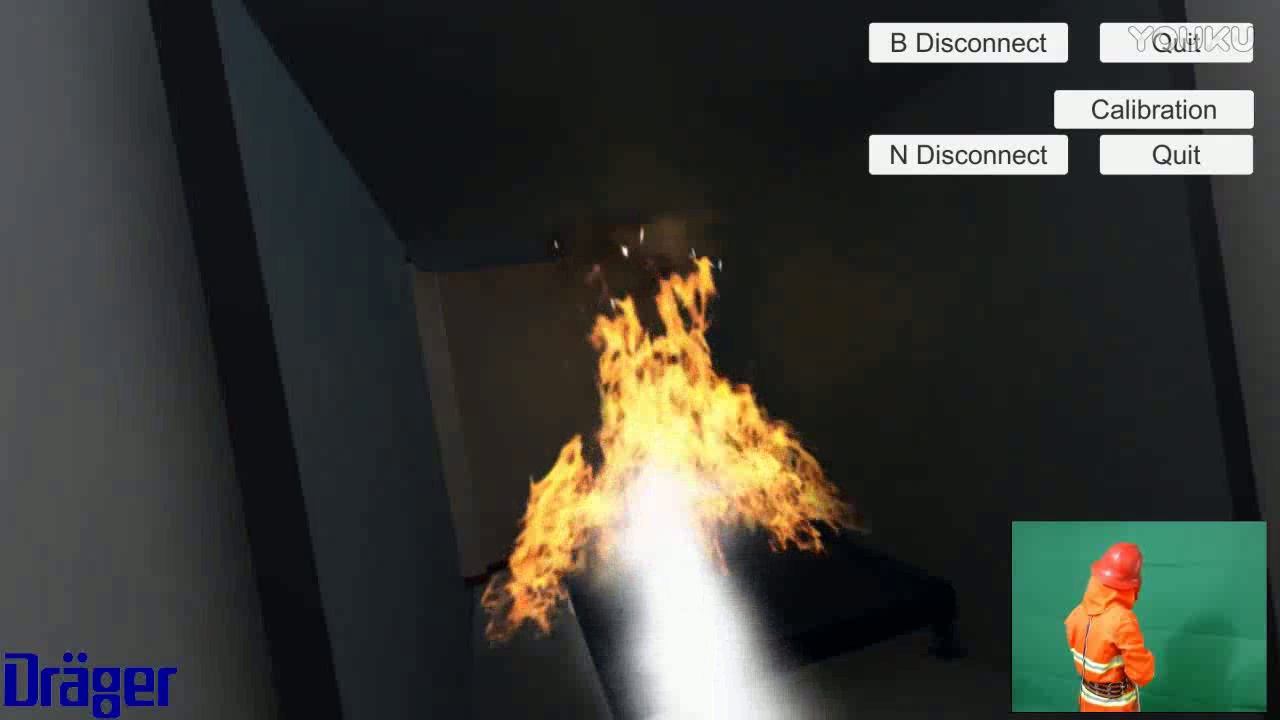fire: (469, 233, 859, 641)
